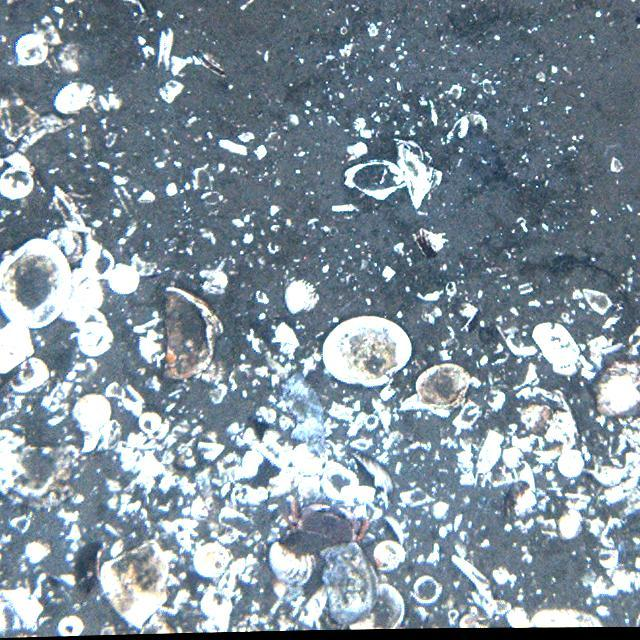crab: (279, 494, 376, 548)
